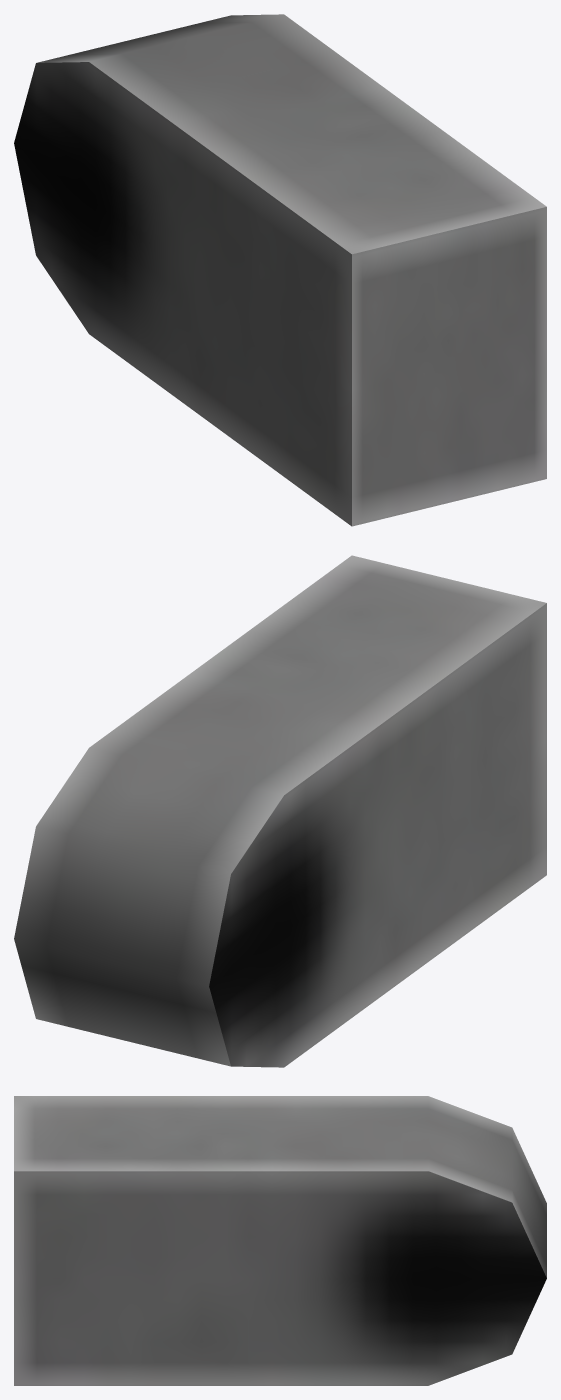
The model's file is lgbase.obj.
The picture shows the model from 3 angles, top to bottom: view 1: azimuth 30°, elevation 25°; view 2: azimuth 150°, elevation 25°; view 3: azimuth 270°, elevation 25°; orthographic projection. The views are drawn at different scales.
Parts seen in each view (by area): view 1: 1; view 2: 1; view 3: 1.
Boxes of the visible parts, left/top/right/bottom form: 1: left=14, top=14, right=546, bottom=526; 1: left=14, top=555, right=546, bottom=1067; 1: left=14, top=1096, right=546, bottom=1385.
Bounding box in the file's own units: 0.0375 × 0.05 × 0.1125.
1 material, 1 textured.
